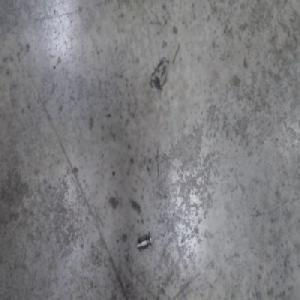Bolt: (136, 233, 153, 253)
